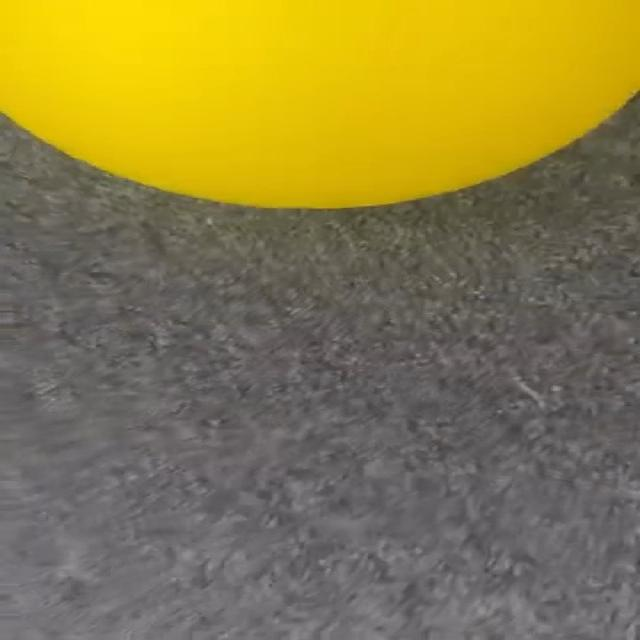Fuels: (0, 0, 636, 207)
